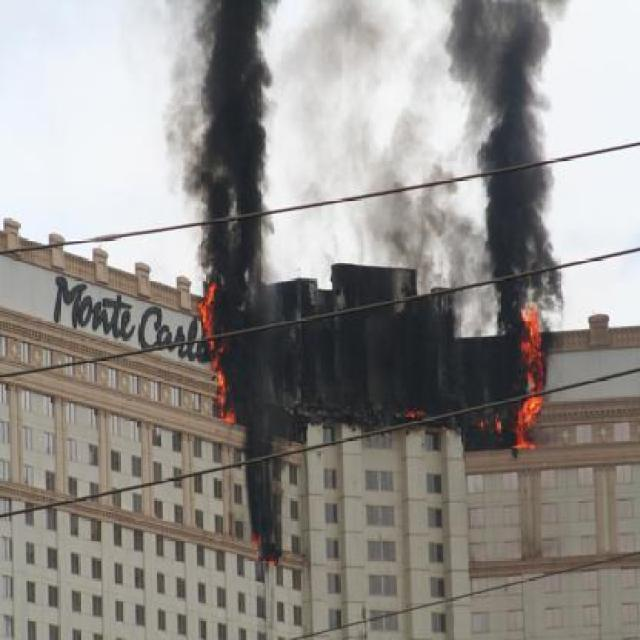Fire: (189, 277, 247, 442), (499, 302, 551, 452)
Smoke: (450, 6, 590, 305), (193, 0, 277, 273)
